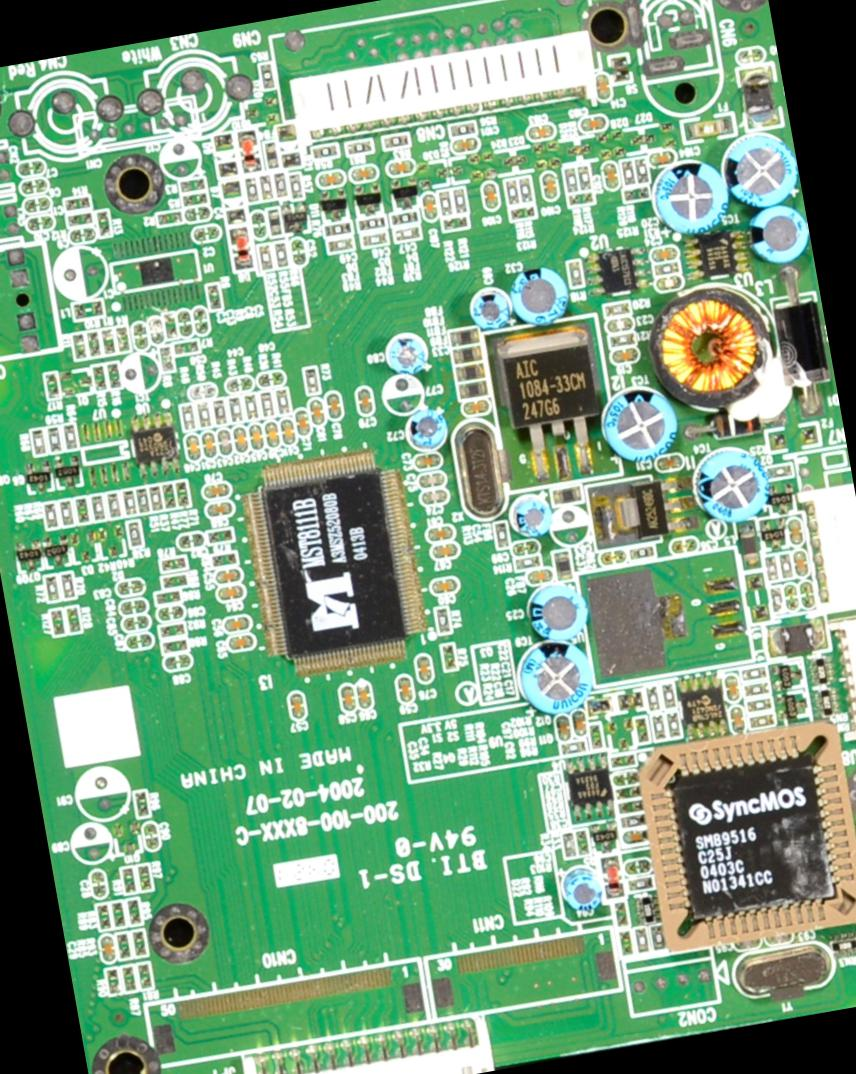Capacitor Jumper: (72, 764, 134, 822), (68, 818, 114, 868), (384, 156, 418, 180), (13, 154, 46, 178), (86, 866, 108, 902), (346, 164, 380, 186), (538, 170, 561, 202), (576, 114, 608, 136), (120, 612, 152, 634), (354, 680, 376, 712), (479, 182, 503, 211), (141, 820, 162, 853), (524, 123, 558, 143), (245, 420, 266, 452), (450, 134, 480, 156), (646, 148, 679, 168), (600, 160, 620, 193), (721, 672, 742, 703), (188, 380, 220, 400), (324, 390, 344, 422), (655, 452, 685, 473), (156, 603, 186, 624), (429, 576, 460, 596), (338, 683, 358, 714), (394, 673, 414, 704), (225, 374, 254, 395), (254, 370, 286, 389), (314, 170, 344, 190), (654, 273, 684, 293), (355, 386, 375, 416), (412, 451, 442, 471), (116, 578, 146, 598), (118, 596, 148, 616), (598, 548, 628, 568), (784, 517, 804, 547), (554, 714, 574, 744), (415, 470, 446, 489), (414, 653, 433, 684), (200, 429, 220, 458), (728, 704, 747, 734), (306, 399, 326, 427), (216, 564, 244, 584), (126, 632, 154, 652), (526, 566, 554, 586), (279, 418, 298, 447), (201, 481, 230, 500), (419, 487, 448, 506), (178, 531, 204, 552), (26, 214, 56, 232), (176, 307, 194, 337), (192, 306, 210, 336), (184, 432, 202, 462), (670, 536, 697, 556), (98, 934, 116, 964), (230, 426, 249, 454), (204, 500, 232, 519), (624, 857, 652, 876), (421, 192, 439, 221), (217, 428, 235, 457), (264, 420, 282, 449), (461, 398, 490, 416), (215, 584, 244, 602), (428, 524, 454, 544), (295, 408, 312, 438), (606, 316, 634, 334), (611, 348, 639, 366), (430, 541, 458, 559), (226, 634, 254, 652), (620, 828, 648, 846), (288, 693, 307, 719), (650, 245, 677, 263), (164, 654, 191, 672), (22, 197, 50, 214), (799, 581, 816, 608), (611, 769, 638, 786), (512, 538, 537, 556), (792, 548, 808, 576), (784, 582, 800, 610), (570, 711, 587, 736), (20, 180, 50, 194), (224, 615, 249, 631), (735, 937, 762, 951), (765, 932, 791, 946)
Connector: (798, 481, 855, 617), (833, 613, 855, 745)
IC: (234, 440, 431, 680), (667, 751, 837, 922), (677, 670, 729, 742), (562, 754, 616, 823), (682, 230, 748, 278), (133, 412, 182, 476), (589, 247, 650, 295)
Resistor Jumper: (516, 174, 538, 208), (359, 228, 390, 252), (502, 176, 522, 208), (325, 236, 357, 256), (124, 518, 144, 550), (394, 224, 424, 244), (60, 422, 80, 452), (206, 526, 236, 546), (158, 554, 188, 574), (585, 722, 605, 752), (664, 709, 684, 739), (287, 170, 305, 203), (171, 338, 202, 357), (44, 425, 64, 454), (302, 364, 320, 396), (136, 862, 154, 894), (618, 158, 637, 188), (631, 156, 650, 186), (271, 240, 290, 270), (273, 386, 292, 416), (104, 966, 123, 996), (112, 324, 132, 352), (616, 796, 644, 816), (603, 300, 632, 319), (765, 462, 794, 481), (173, 478, 191, 508), (60, 570, 78, 600), (160, 638, 190, 656), (434, 606, 452, 636), (650, 712, 668, 742), (562, 166, 581, 194), (89, 494, 108, 522), (761, 555, 780, 583), (567, 260, 585, 289), (652, 260, 681, 278), (122, 487, 140, 516), (210, 550, 239, 568), (748, 712, 777, 730), (94, 902, 112, 931), (618, 812, 645, 831), (441, 641, 458, 671), (768, 584, 785, 614), (133, 789, 150, 819), (121, 866, 138, 896), (256, 244, 274, 272), (157, 345, 175, 373), (43, 575, 61, 603), (49, 608, 67, 636), (64, 606, 82, 634), (740, 664, 768, 682), (743, 680, 771, 698), (634, 716, 652, 744), (130, 930, 148, 958), (162, 311, 179, 340), (180, 402, 197, 431), (558, 738, 587, 755), (115, 931, 132, 960), (451, 188, 469, 215), (644, 685, 662, 712), (258, 174, 274, 204), (100, 326, 116, 356), (148, 482, 164, 512), (574, 828, 590, 858), (576, 164, 593, 192), (196, 400, 213, 428), (243, 392, 260, 420), (493, 520, 510, 548), (158, 623, 186, 640), (659, 682, 676, 710), (437, 191, 455, 217), (205, 284, 223, 310), (104, 362, 122, 388), (211, 398, 229, 424), (42, 502, 60, 528), (162, 572, 188, 590), (126, 897, 142, 926), (272, 172, 289, 199), (30, 428, 47, 455), (121, 964, 138, 991), (86, 330, 102, 358), (608, 332, 636, 348), (161, 482, 177, 510), (74, 497, 90, 525), (514, 554, 542, 570), (243, 178, 260, 204), (44, 372, 61, 398), (259, 390, 276, 416), (228, 396, 245, 422), (106, 492, 122, 519), (154, 589, 181, 605), (778, 553, 794, 580), (614, 784, 641, 800), (612, 902, 628, 929), (92, 364, 108, 390), (562, 832, 578, 858), (137, 962, 153, 988), (57, 500, 74, 524), (747, 696, 772, 712), (110, 902, 126, 927), (618, 930, 634, 955), (135, 486, 150, 512), (627, 877, 653, 892), (610, 753, 635, 768), (634, 927, 649, 952), (72, 332, 86, 358), (651, 924, 666, 948)
Transistor: (764, 477, 796, 516), (605, 717, 638, 754), (52, 452, 82, 488), (588, 822, 619, 856), (758, 517, 788, 552), (770, 661, 803, 692), (777, 691, 808, 722), (14, 538, 42, 572), (25, 459, 52, 492), (43, 536, 69, 568)
